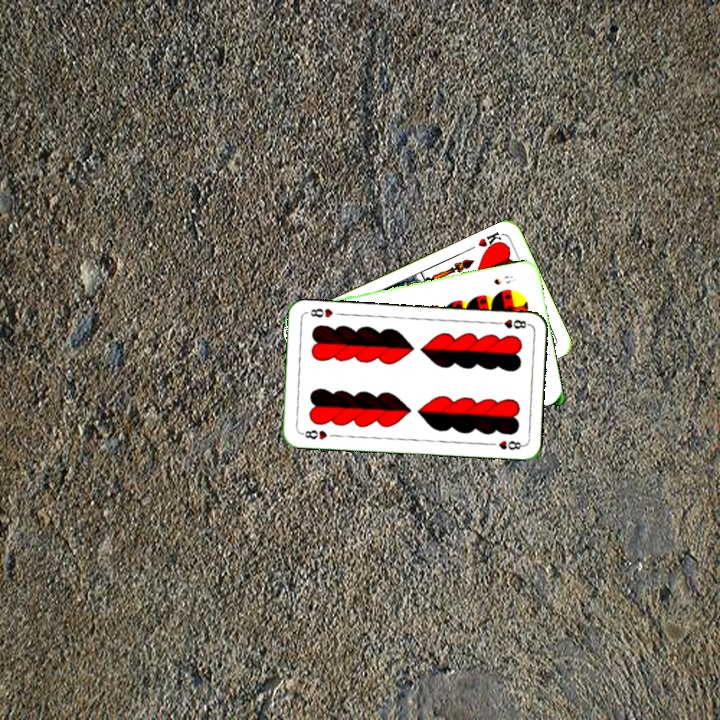H8: (491, 315, 532, 331), (296, 426, 330, 442)
HK: (474, 228, 506, 253)
S8: (490, 271, 518, 288)
